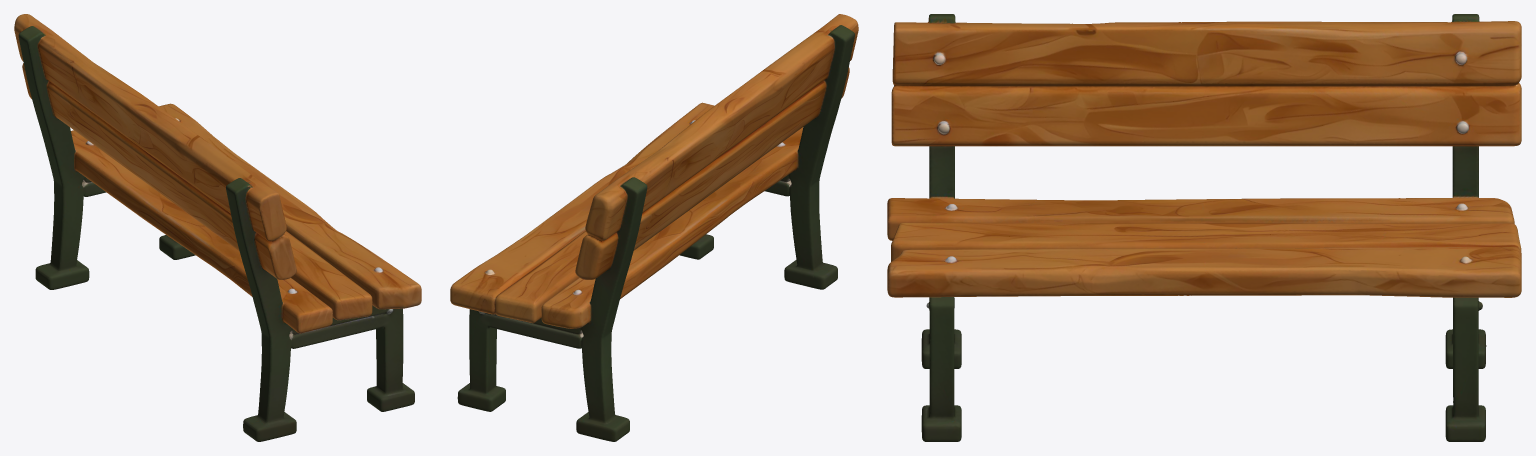
The model's file is bench_raw.glb.
3 views of the same model, side by side, from view 1: azimuth 30°, elevation 25°; view 2: azimuth 150°, elevation 25°; view 3: azimuth 270°, elevation 25° (orthographic). The views are drawn at different scales.
Visible parts, largest first — view 1: tripo_node_6f1436b6-1dfb-44ae-a884-73d77bfc5ebb; view 2: tripo_node_6f1436b6-1dfb-44ae-a884-73d77bfc5ebb; view 3: tripo_node_6f1436b6-1dfb-44ae-a884-73d77bfc5ebb.
Boxes of the visible parts, <box> form: tripo_node_6f1436b6-1dfb-44ae-a884-73d77bfc5ebb: <box>14,14,421,441</box>; tripo_node_6f1436b6-1dfb-44ae-a884-73d77bfc5ebb: <box>450,14,858,441</box>; tripo_node_6f1436b6-1dfb-44ae-a884-73d77bfc5ebb: <box>887,14,1521,441</box>.
Size of the model in its own units: 0.4092 by 0.5668 by 1.
1 material, 1 textured.
